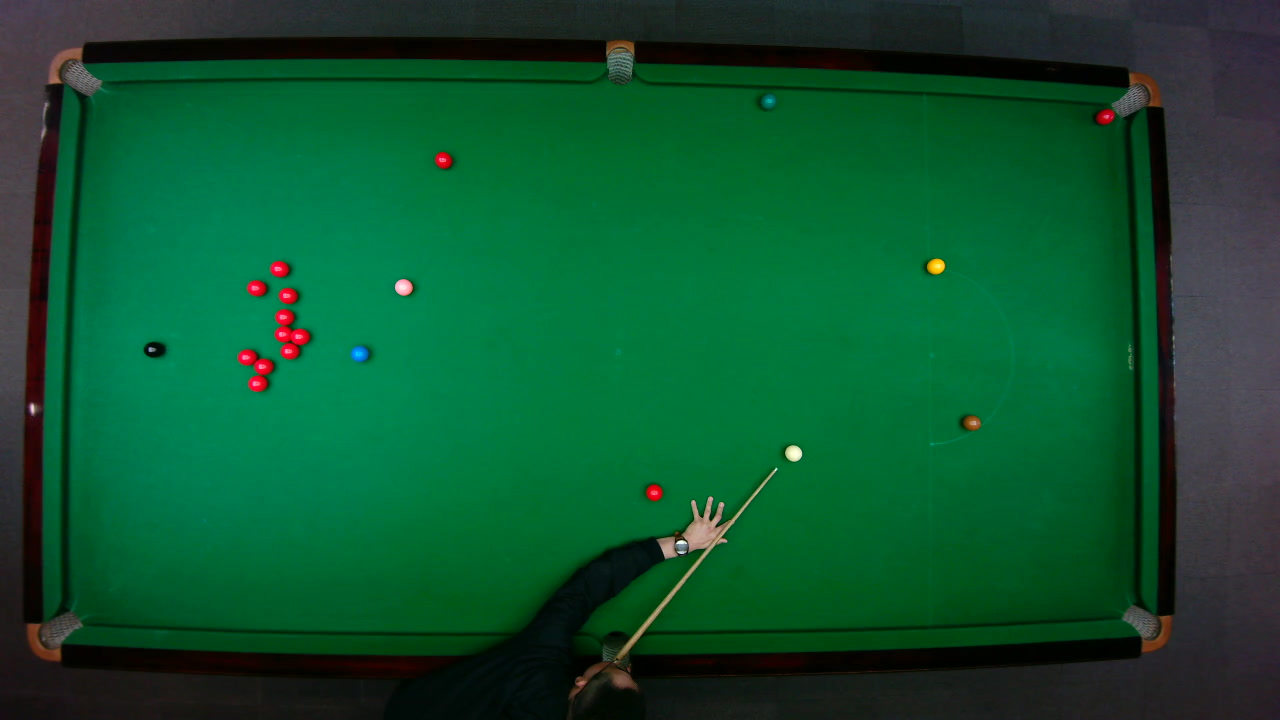bag: (25, 609, 83, 661), (45, 46, 102, 96), (1107, 71, 1162, 118), (1120, 603, 1172, 652), (600, 631, 633, 688), (605, 38, 633, 85)
black: (142, 340, 163, 357)
blue: (349, 344, 370, 362)
brown: (961, 414, 981, 430)
cue: (613, 465, 779, 665)
green: (758, 92, 776, 110)
pink: (393, 277, 413, 296)
red: (286, 326, 310, 345), (252, 356, 274, 375), (236, 347, 258, 366), (244, 278, 267, 296), (246, 374, 268, 392), (272, 307, 294, 325), (268, 259, 290, 277), (277, 286, 298, 304), (1094, 107, 1116, 124), (644, 482, 663, 501), (433, 150, 452, 169), (272, 325, 293, 342), (278, 342, 299, 359)
white: (783, 443, 803, 461)
yellow: (925, 256, 946, 274)
zone: (927, 264, 1014, 445)
